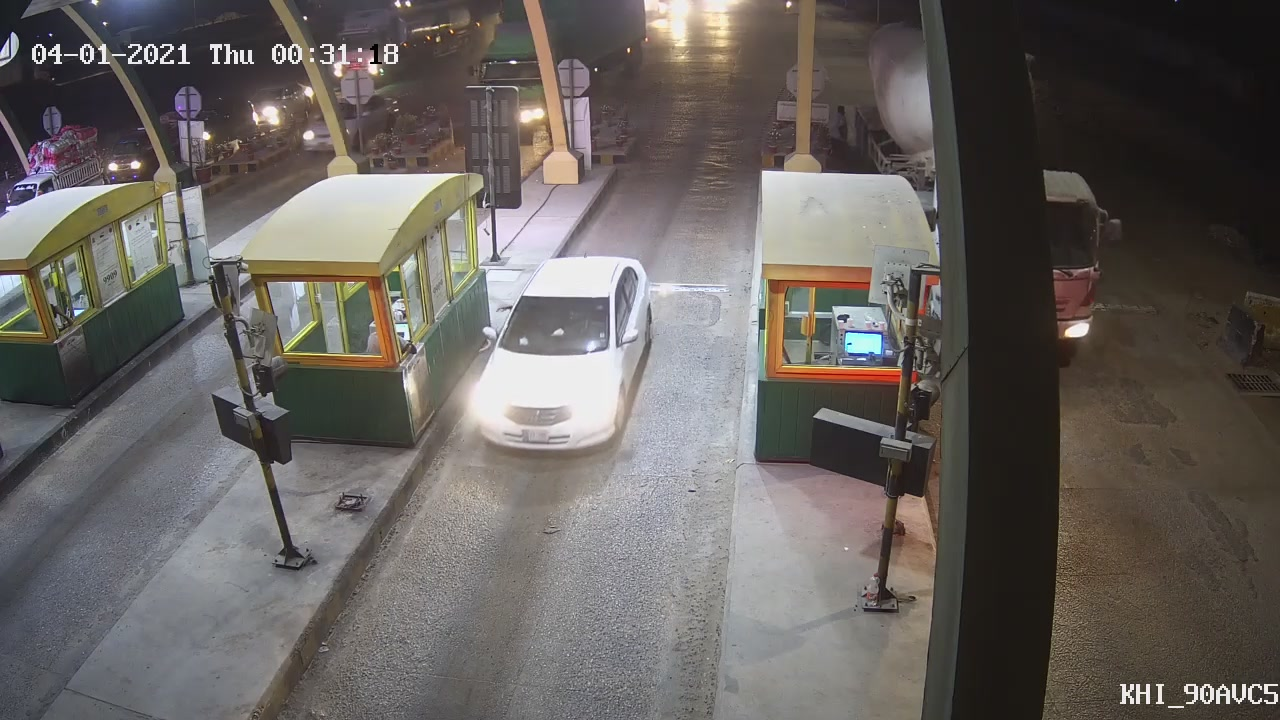F1: (467, 247, 656, 490)
